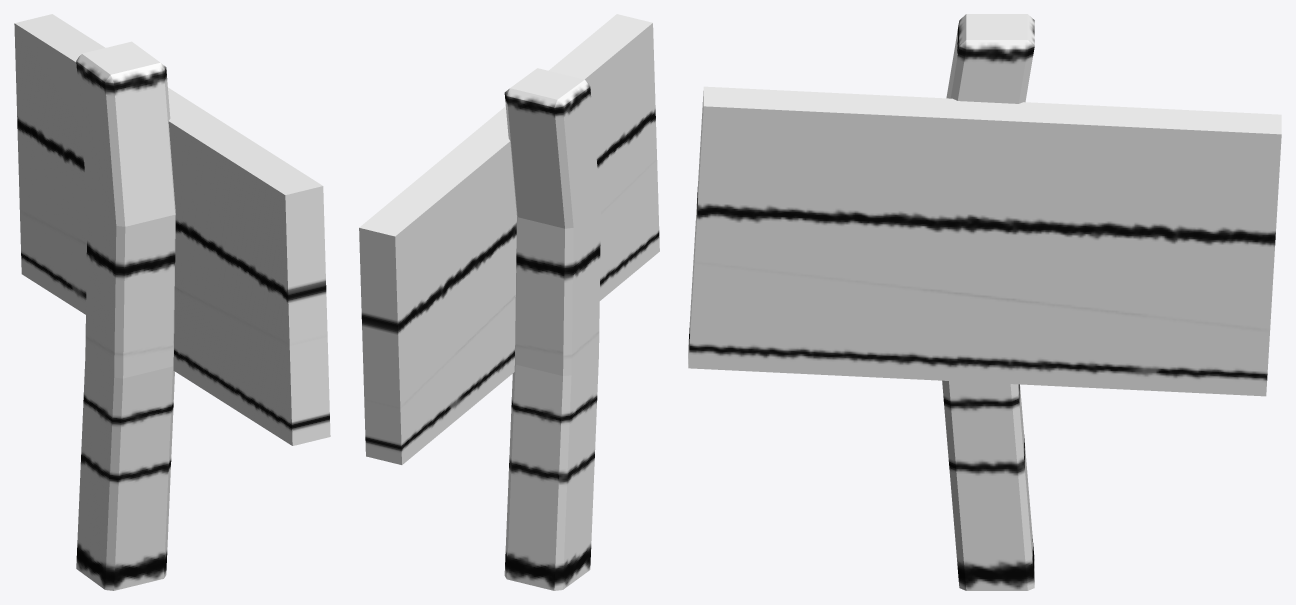
File: Normaal_bord.fbx
3 views of the same model, side by side, from view 1: azimuth 30°, elevation 25°; view 2: azimuth 150°, elevation 25°; view 3: azimuth 270°, elevation 25° (orthographic). The views are drawn at different scales.
Visible parts, largest first — view 1: Bord pijl; view 2: Bord pijl; view 3: Bord pijl.
Part boxes in pixels (x1,y1,x2,y2): Bord pijl: (14, 14, 330, 590); Bord pijl: (359, 14, 659, 590); Bord pijl: (688, 14, 1281, 590).
Bounding box in the file's own units: 24.74 × 128 × 125.
Materials: 1 (1 with a texture image).
